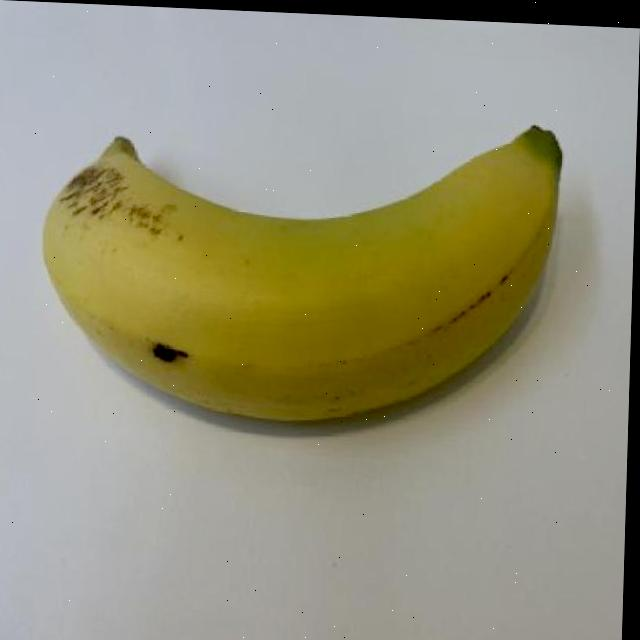banana: (38, 91, 570, 442)
